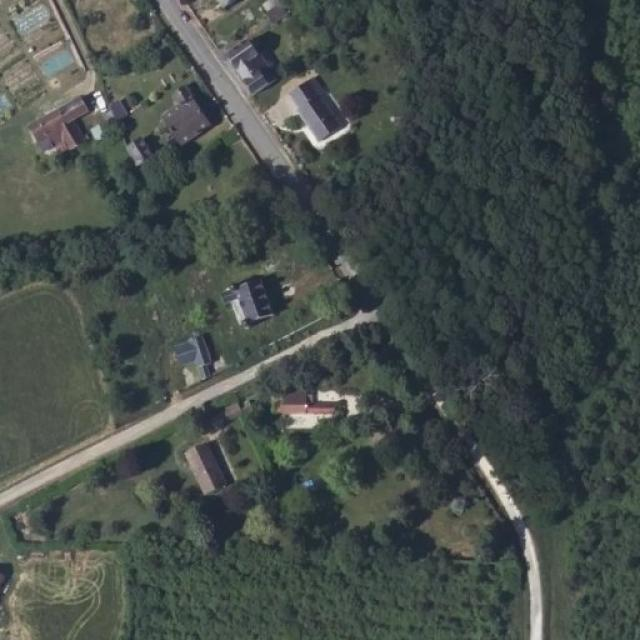maison: (33, 103, 96, 157), (294, 76, 346, 138), (161, 82, 212, 143), (230, 36, 280, 90), (222, 279, 278, 327), (189, 446, 226, 486), (276, 391, 340, 414), (183, 331, 209, 377), (126, 137, 156, 168), (270, 0, 299, 12)
